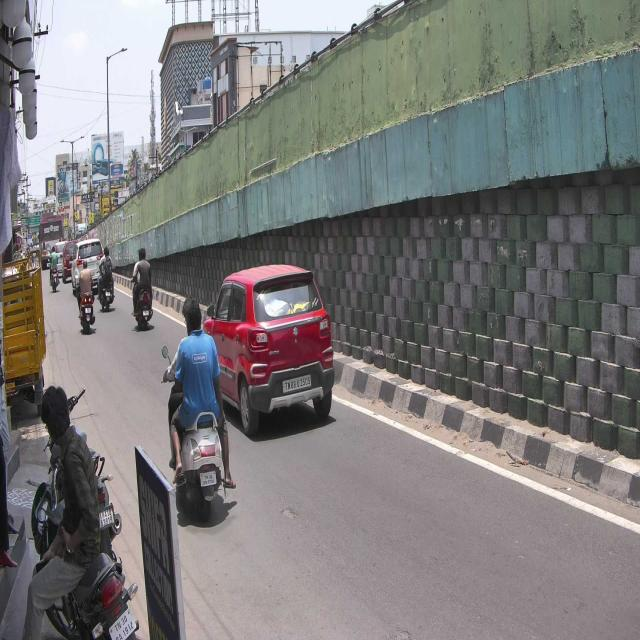double_rider: (162, 294, 238, 524)
